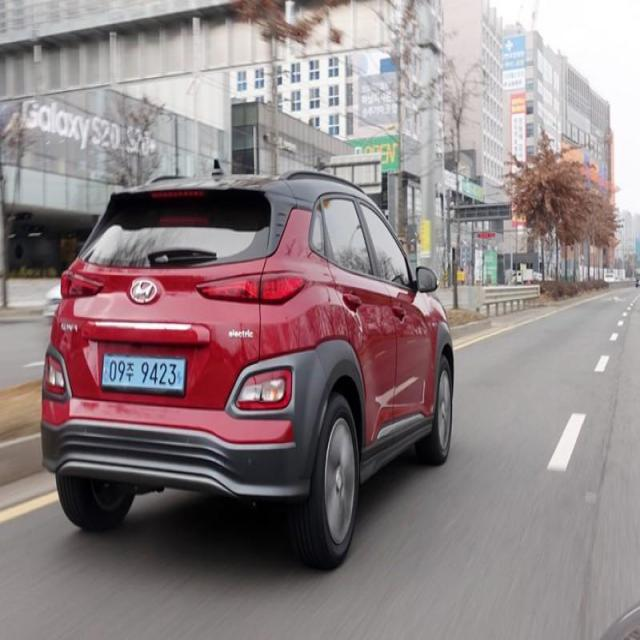EV_plate: (103, 350, 189, 398)
car: (29, 145, 461, 567)
